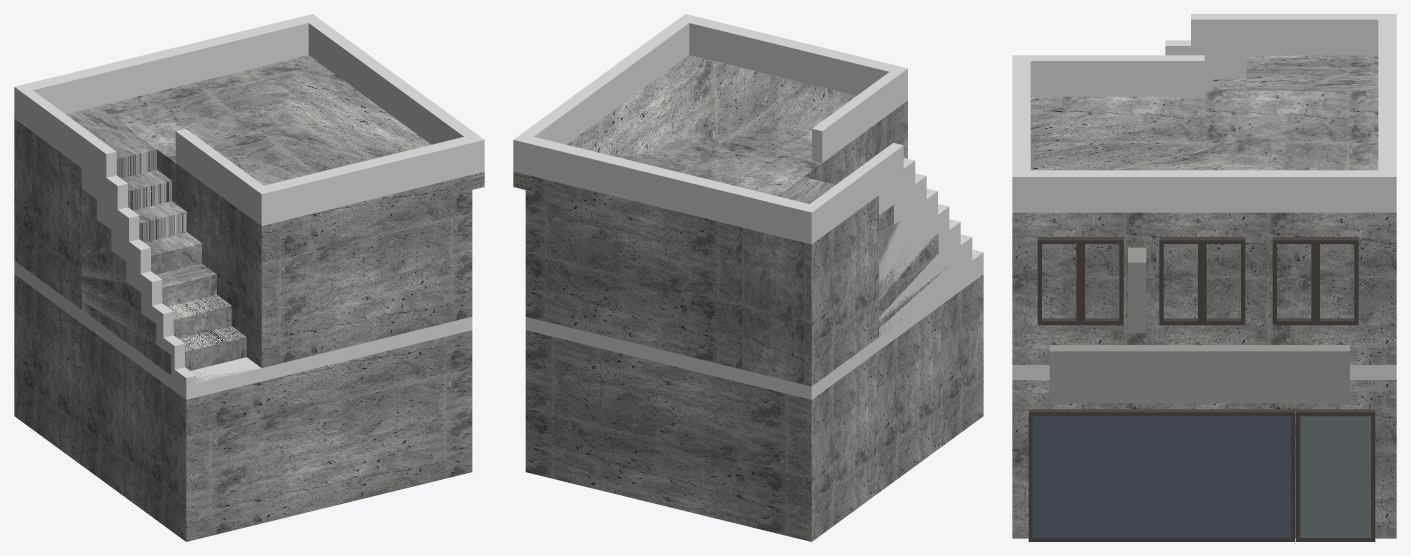
File: dummyA.fbx
3 renders of one model, left to right at view 1: azimuth 30°, elevation 25°; view 2: azimuth 150°, elevation 25°; view 3: azimuth 270°, elevation 25°, orthographic. The views are drawn at different scales.
Parts seen in each view (by area): view 1: Cube.001; view 2: Cube.001; view 3: Cube.001.
Boxes of the visible parts, x1,y1,x2,y2 form: Cube.001: (14, 14, 484, 541); Cube.001: (513, 14, 983, 541); Cube.001: (1012, 14, 1396, 541).
Size of the model in its own units: 468 by 464 by 439.
